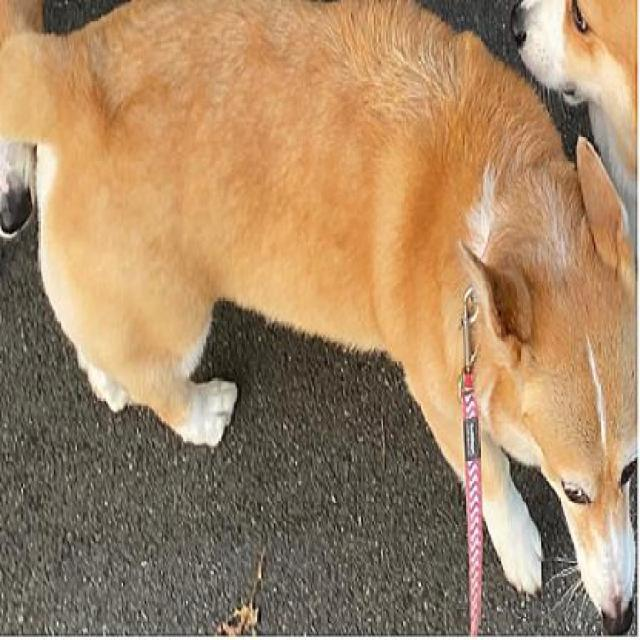Dog: (1, 0, 638, 635)
